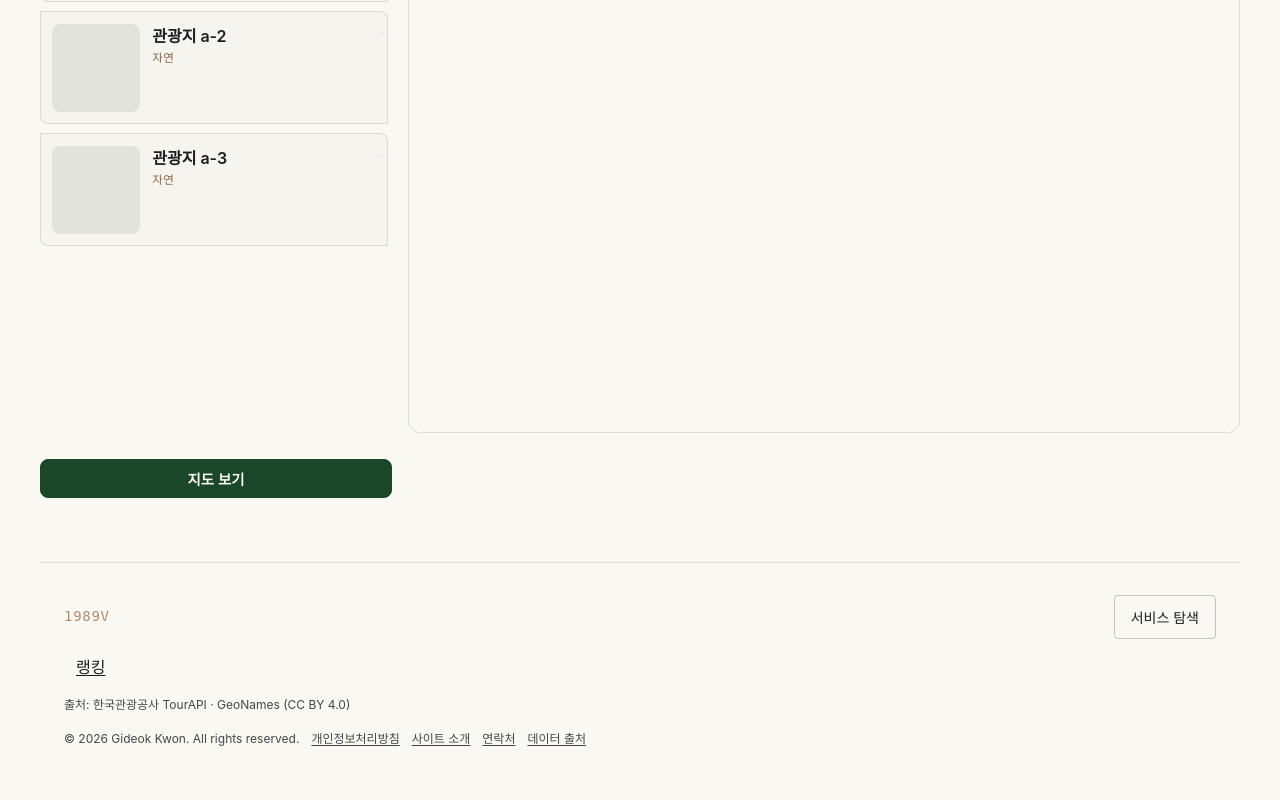
Scenario: 좁은 화면 listFirst (기본) › 목록이 먼저고 지도는 숨긴 채 마운트만 한다 — 「지도 보기」 전에는 지도 스크립트를 부르지 않는다
(page scrolled)
Click the button "지도 보기".
click(216, 478)  # box left=40, top=459, right=392, bottom=498
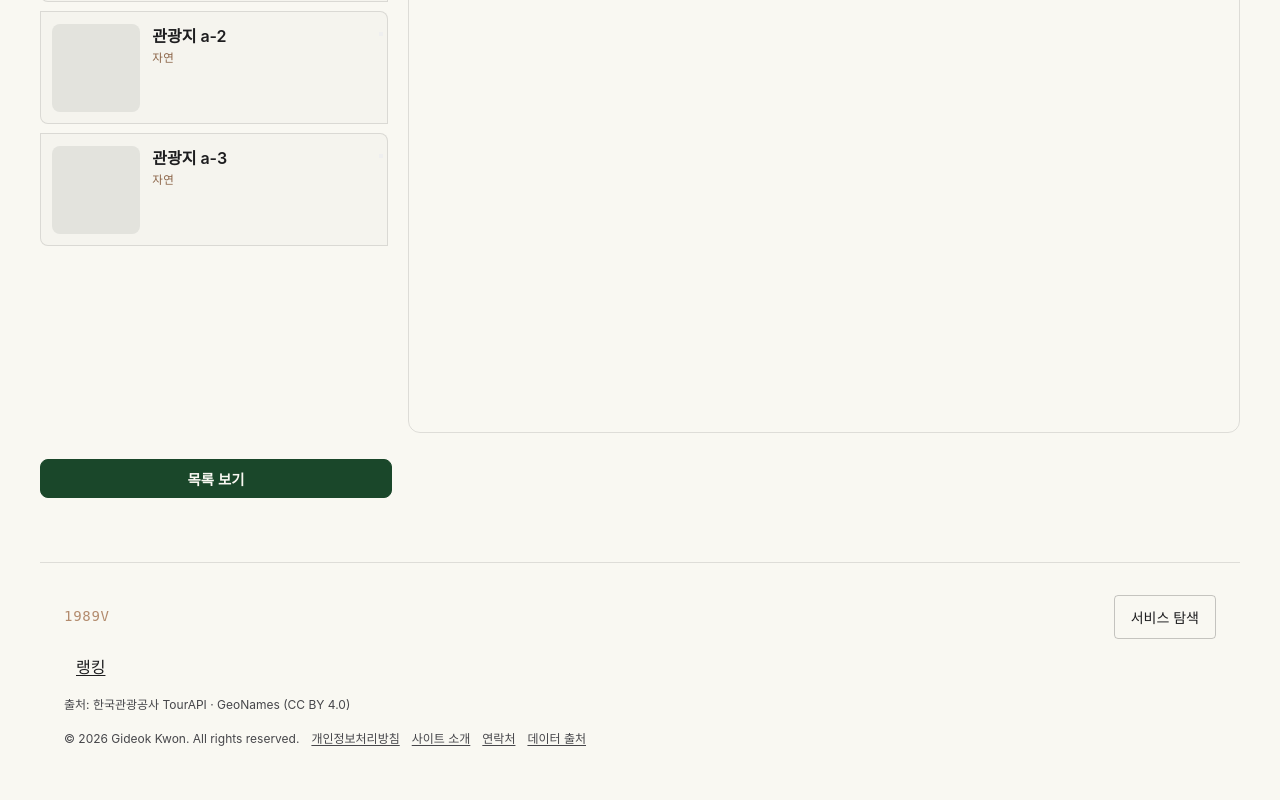
Now the button "목록 보기" is shown, box left=40, top=459, right=392, bottom=498
